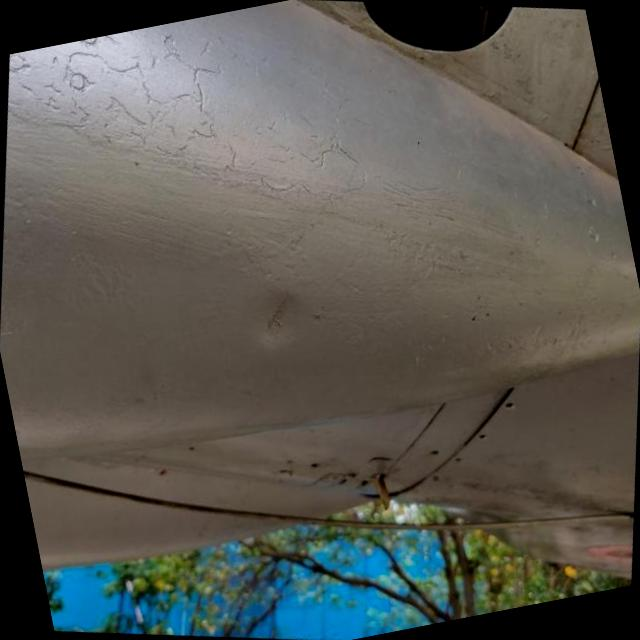dent: (237, 267, 320, 367)
